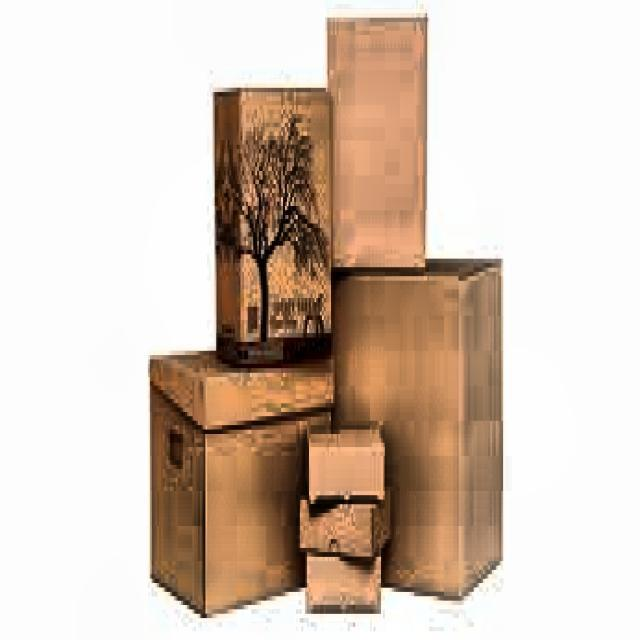cardboard: (331, 254, 503, 596), (148, 346, 335, 614), (211, 83, 331, 364), (326, 9, 428, 268)
